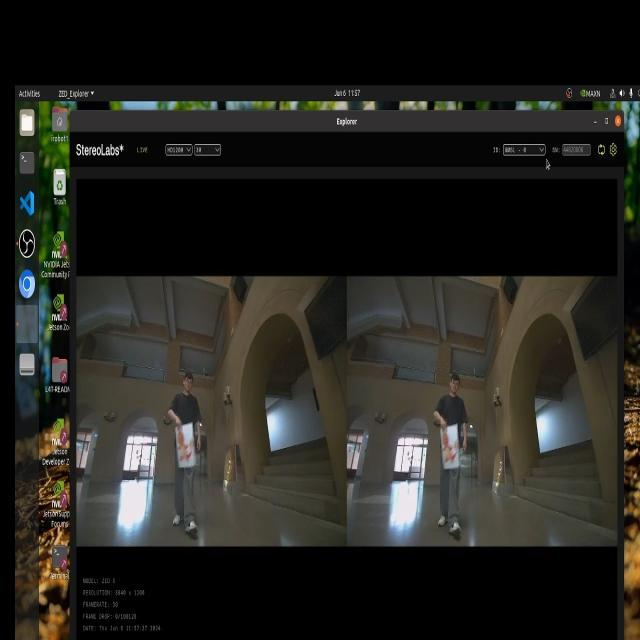red: (171, 418, 204, 474), (438, 434, 462, 476)
